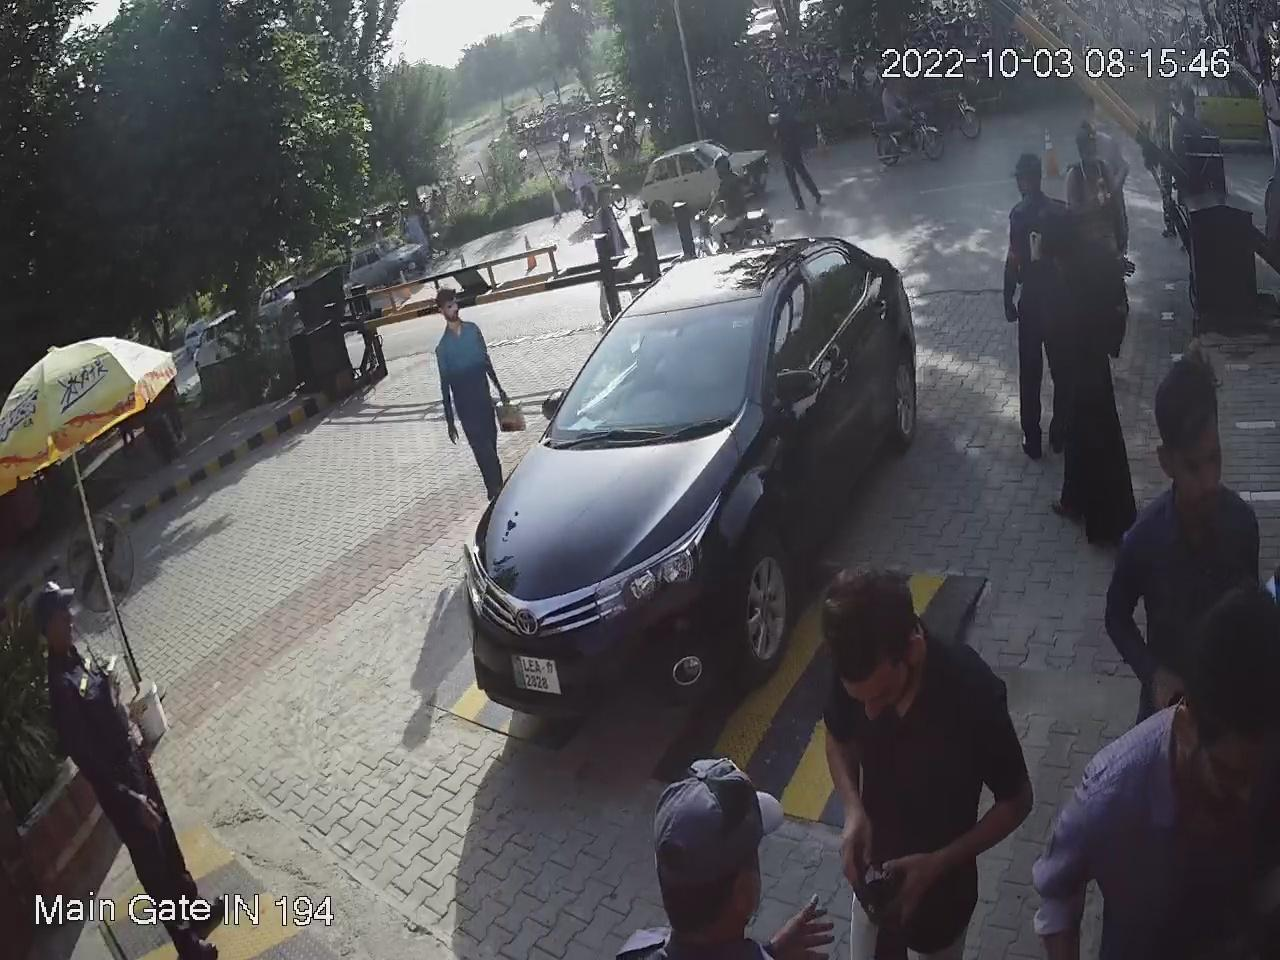windshield: (535, 285, 773, 463)
